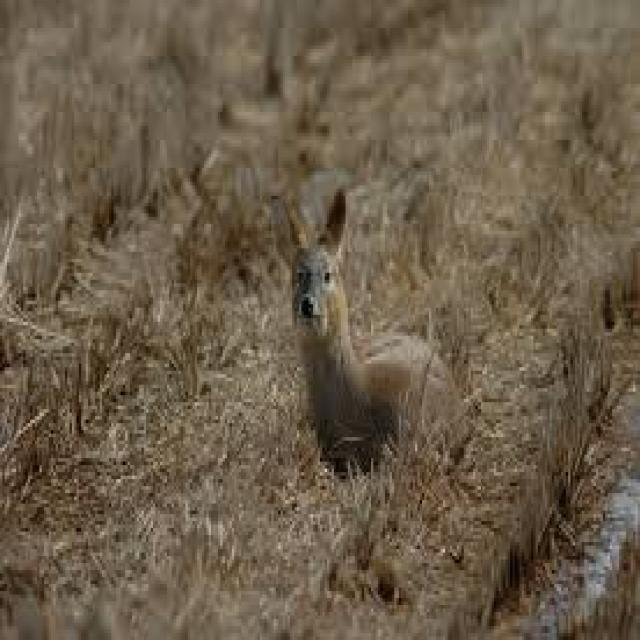elk: (265, 186, 481, 480)
